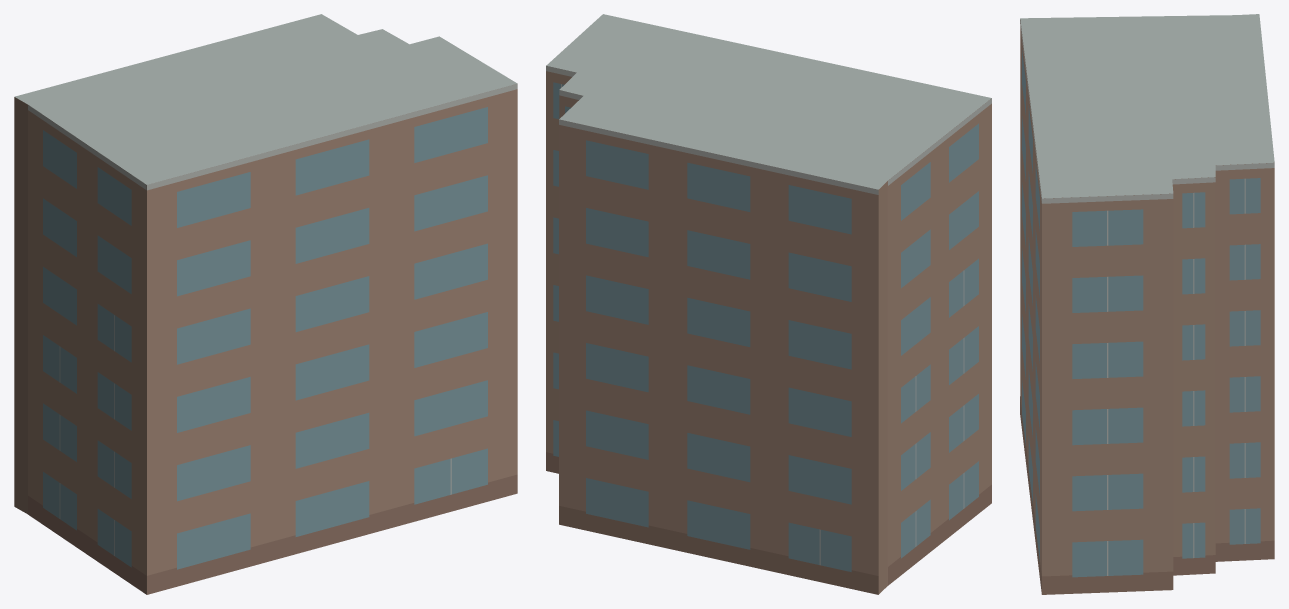
The model's file is survey-upis-32877050.glb.
3 views of the same model, side by side, from view 1: azimuth 30°, elevation 25°; view 2: azimuth 150°, elevation 25°; view 3: azimuth 270°, elevation 25° (orthographic). The views are drawn at different scales.
Parts seen in each view (by area): view 1: survey-upis-32877050.tmp; view 2: survey-upis-32877050.tmp; view 3: survey-upis-32877050.tmp.
Boxes of the visible parts, <box> form: survey-upis-32877050.tmp: <box>14,14,517,594</box>; survey-upis-32877050.tmp: <box>546,14,991,594</box>; survey-upis-32877050.tmp: <box>1020,14,1274,594</box>.
Bounding box in the file's own units: 18.28 × 18.3 × 10.66.
